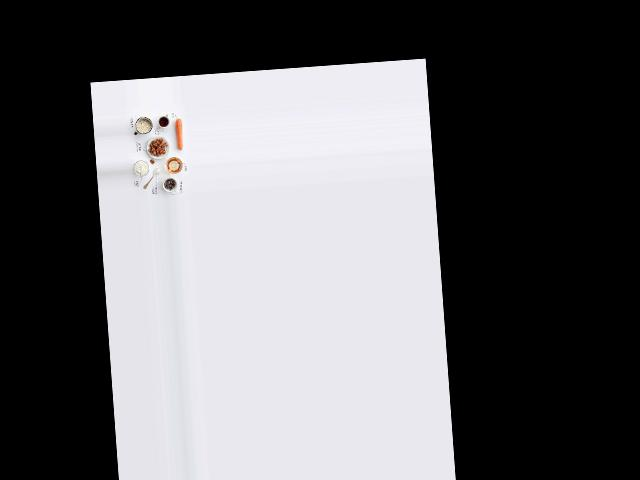carrot: (171, 115, 185, 153)
